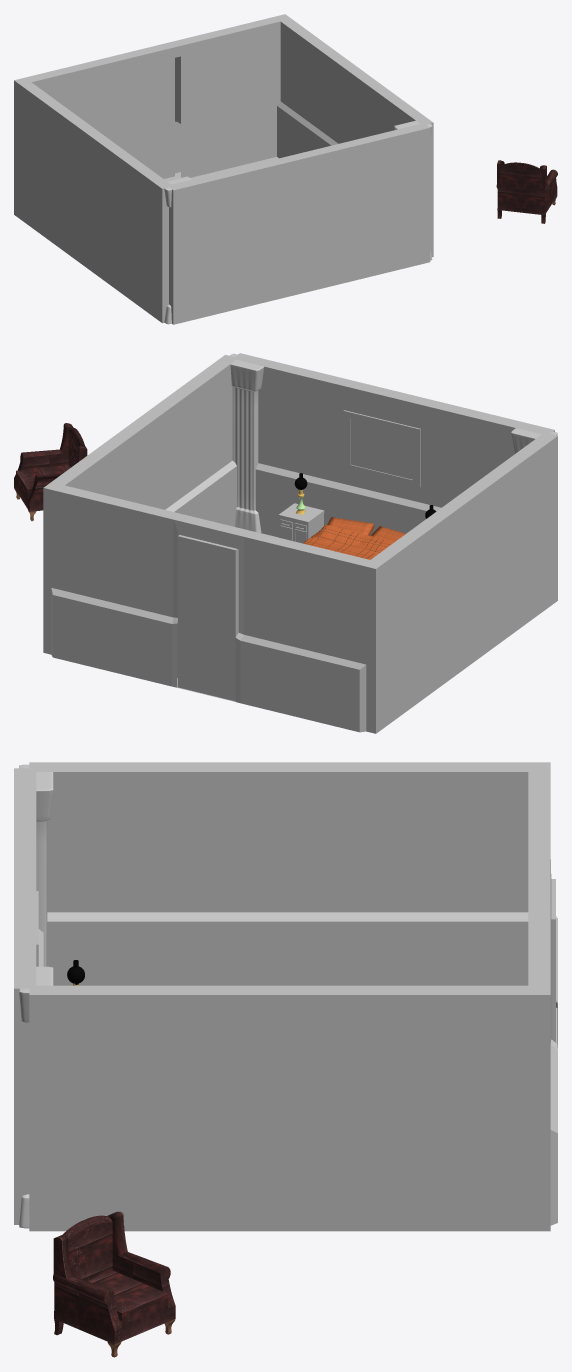
Rendered from Chambre.fbx.
3 views of the same model, one above another, from view 1: azimuth 30°, elevation 25°; view 2: azimuth 150°, elevation 25°; view 3: azimuth 270°, elevation 25° (orthographic). The views are drawn at different scales.
Parts seen in each view (by area): view 1: Mur010, Mur011, Mur012, Mur009, Box036, Fauteuil; view 2: Mur012, Mur011, Mur010, Mur009, Box036, Box035, Box045, Fauteuil, Lit, Box033; view 3: Mur009, Mur011, Fauteuil, Mur010, Mur012, Box046, Box045, Box036.
Boxes of the visible parts, box(x1,y1,x2,y2) form: Mur010: box(169, 124, 430, 324); Mur011: box(14, 77, 171, 323); Mur012: box(25, 17, 280, 180); Mur009: box(274, 14, 433, 257); Box036: box(132, 58, 174, 178); Fauteuil: box(496, 160, 557, 223); Mur012: box(51, 485, 370, 732); Mur011: box(362, 432, 557, 733); Mur010: box(235, 353, 554, 537); Mur009: box(43, 354, 238, 654); Box036: box(178, 535, 238, 701); Box035: box(343, 410, 420, 487); Box045: box(230, 353, 264, 533); Fauteuil: box(14, 423, 87, 521); Lit: box(303, 517, 405, 559); Box033: box(278, 503, 324, 543); Mur009: box(29, 985, 550, 1231); Mur011: box(29, 762, 550, 985); Fauteuil: box(53, 1211, 175, 1357); Mur010: box(14, 768, 43, 1224); Mur012: box(528, 770, 557, 1225); Box046: box(19, 764, 53, 966); Box045: box(19, 966, 53, 1228); Box036: box(551, 879, 555, 1042).
Size of the model in its own units: 257 by 79.17 by 164.
